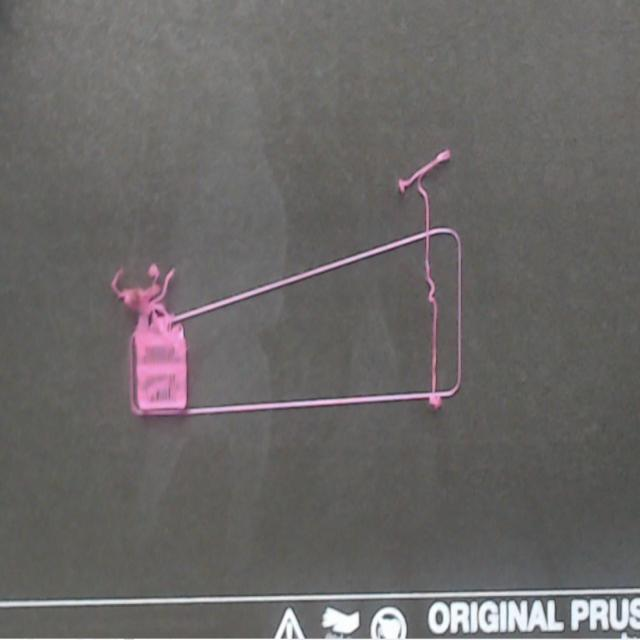mistake: (418, 188, 438, 402), (136, 329, 187, 412), (112, 269, 174, 313), (398, 150, 450, 194)
